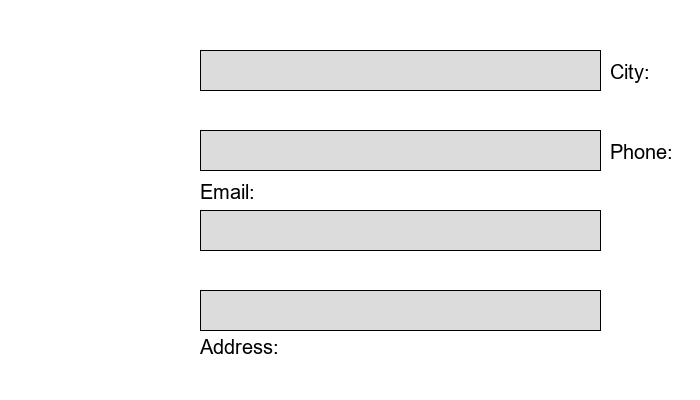Label: (200, 335, 274, 350), (610, 140, 667, 155), (200, 180, 249, 195), (610, 60, 644, 79)
Textbox: (200, 50, 600, 90), (200, 130, 600, 170), (200, 210, 600, 250), (200, 290, 600, 330)
